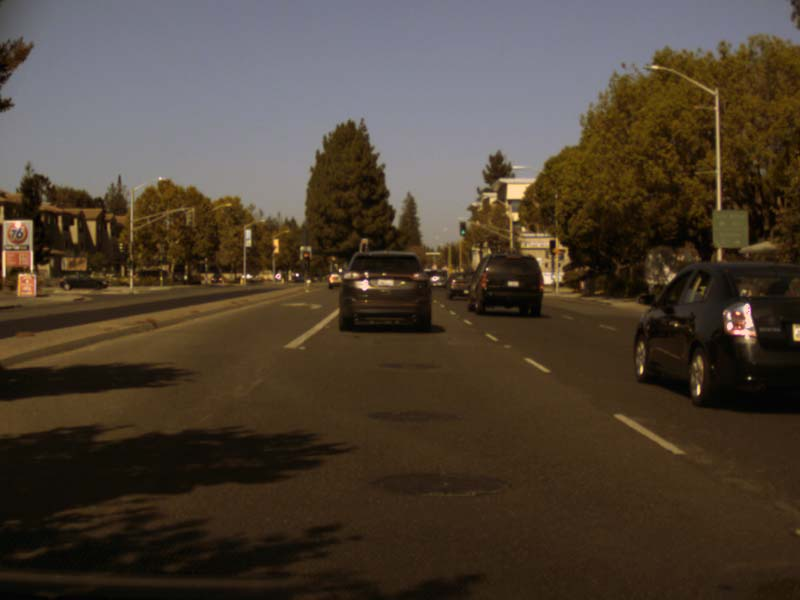Green: (460, 221, 465, 235)
Red: (302, 251, 309, 260), (361, 238, 366, 250)
